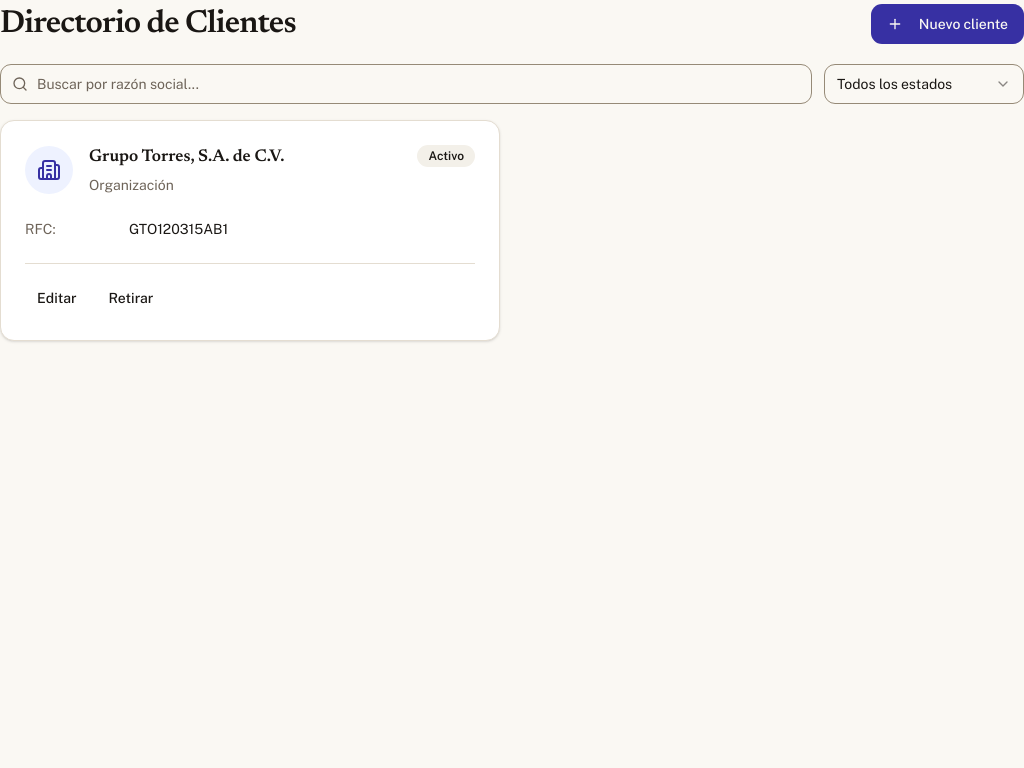
Scenario: controls are gated on capability, not on an archetype list › opens the edit form on the row it was clicked from
Check: the heading "Grupo Torres, S.A. de C.V." is shown, box x1=89 y1=145 x2=284 y2=170
Click the button with aria-label "editar grupo torres".
click(57, 298)  # box x1=25 y1=280 x2=88 y2=316
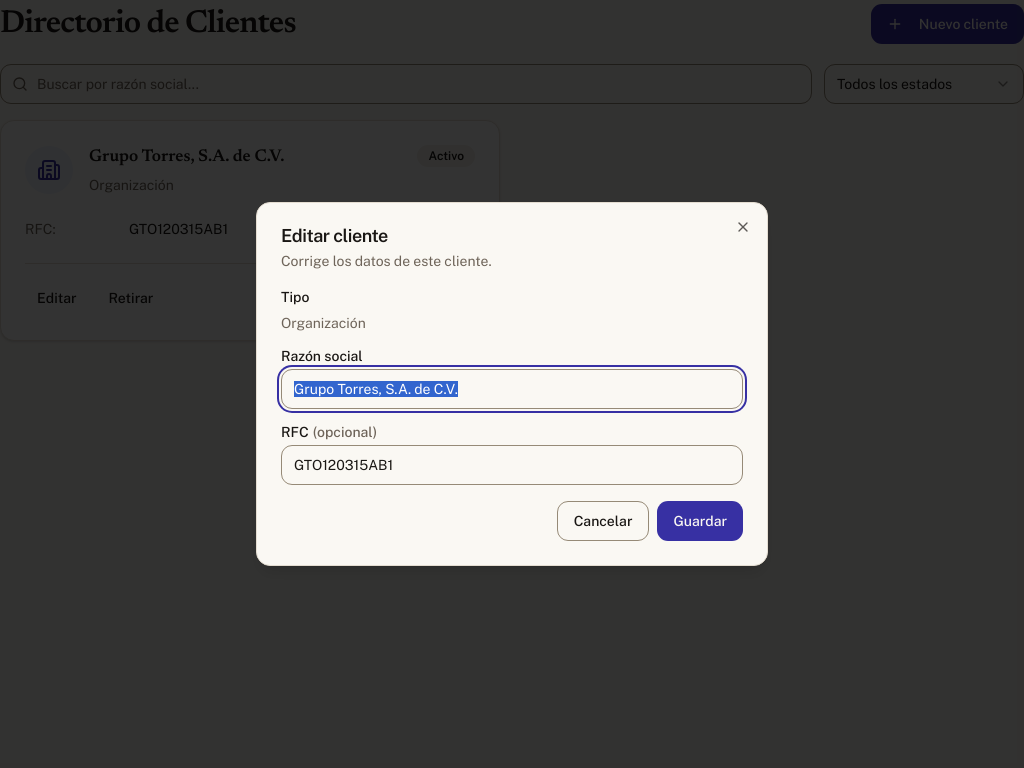
Check: the field labelled "Razón social" holds "Grupo Torres, S.A. de C.V.", box x1=281 y1=369 x2=743 y2=409
